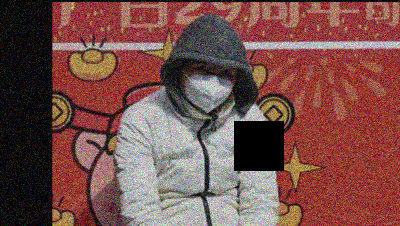with_mask: (177, 61, 236, 116)
